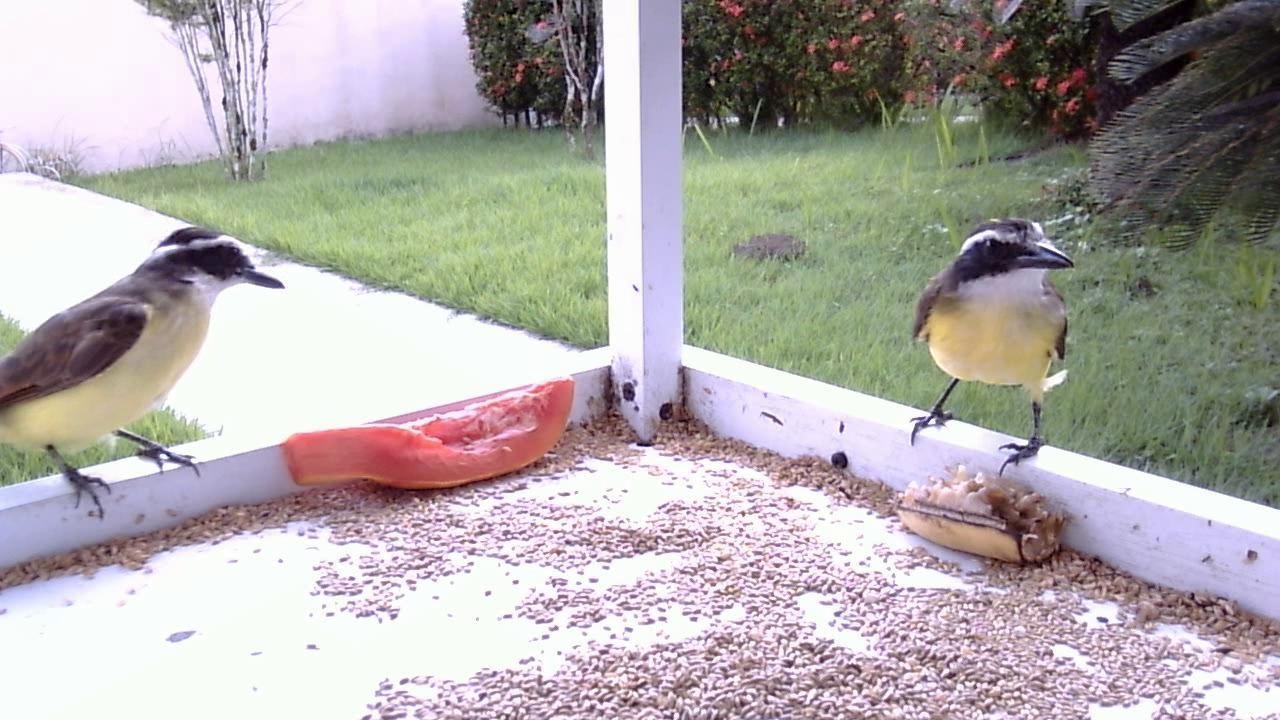bem_te_vi: (1, 184, 291, 528), (900, 210, 1075, 484)
